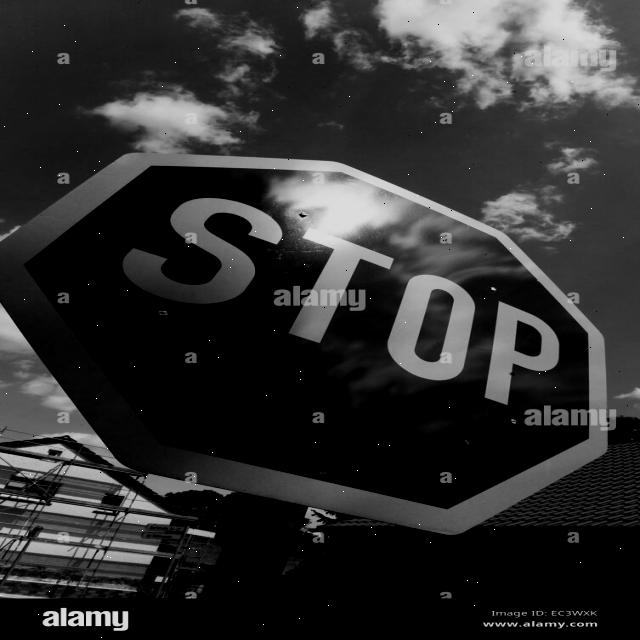Stop-sign: (0, 140, 634, 553)
